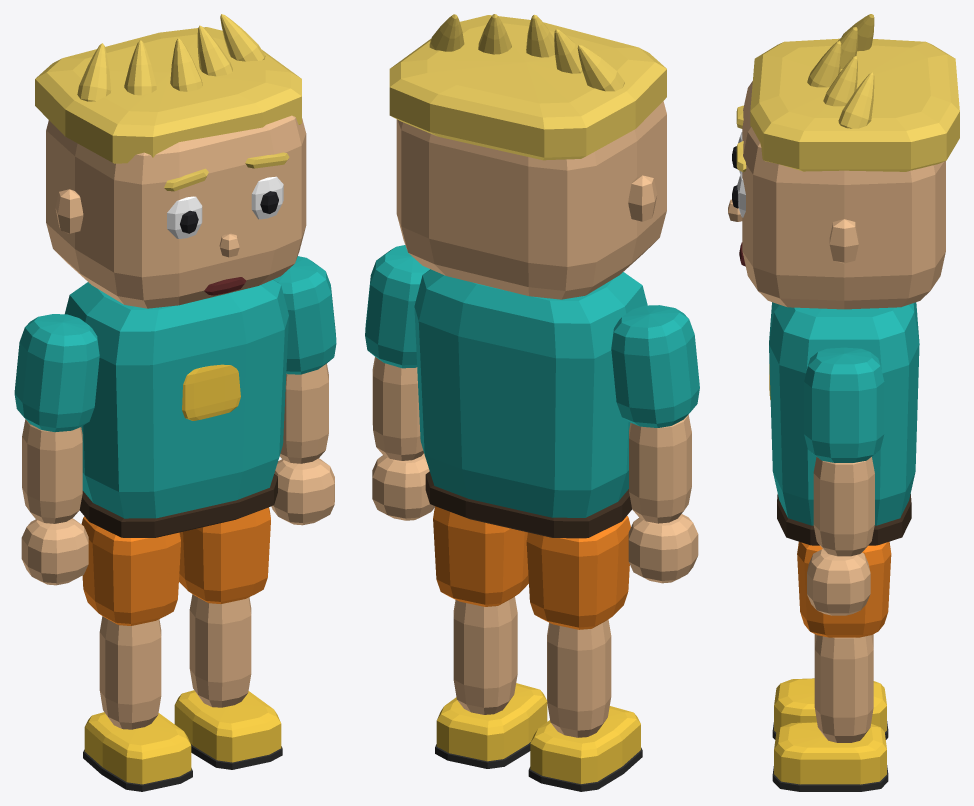
Rendered from hero-n.glb.
3 renders of one model, left to right at view 1: azimuth 30°, elevation 25°; view 2: azimuth 150°, elevation 25°; view 3: azimuth 270°, elevation 25°, orthographic. The views are drawn at different scales.
Visible parts, largest first — view 1: head, torso, leg-right, leg-left, arm-right, arm-left; view 2: head, torso, leg-right, leg-left, arm-right, arm-left; view 3: head, torso, arm-left, leg-left, leg-right.
Part boxes in pixels (x1=…): head: x1=35, y1=14, x2=306, y2=308; torso: x1=65, y1=279, x2=288, y2=537; leg-right: x1=81, y1=516, x2=192, y2=791; leg-left: x1=174, y1=507, x2=282, y2=769; arm-right: x1=14, y1=314, x2=99, y2=585; arm-left: x1=271, y1=256, x2=336, y2=525; head: x1=389, y1=14, x2=666, y2=299; torso: x1=414, y1=269, x2=647, y2=538; leg-right: x1=526, y1=516, x2=642, y2=791; leg-left: x1=433, y1=506, x2=547, y2=768; arm-right: x1=611, y1=305, x2=699, y2=583; arm-left: x1=365, y1=245, x2=434, y2=520; head: x1=728, y1=14, x2=959, y2=309; torso: x1=769, y1=302, x2=919, y2=545; arm-left: x1=804, y1=347, x2=884, y2=615; leg-left: x1=772, y1=541, x2=891, y2=791; leg-right: x1=772, y1=634, x2=888, y2=739.
Bounding box in the file's own units: 1.29 × 2.89 × 0.8497.
